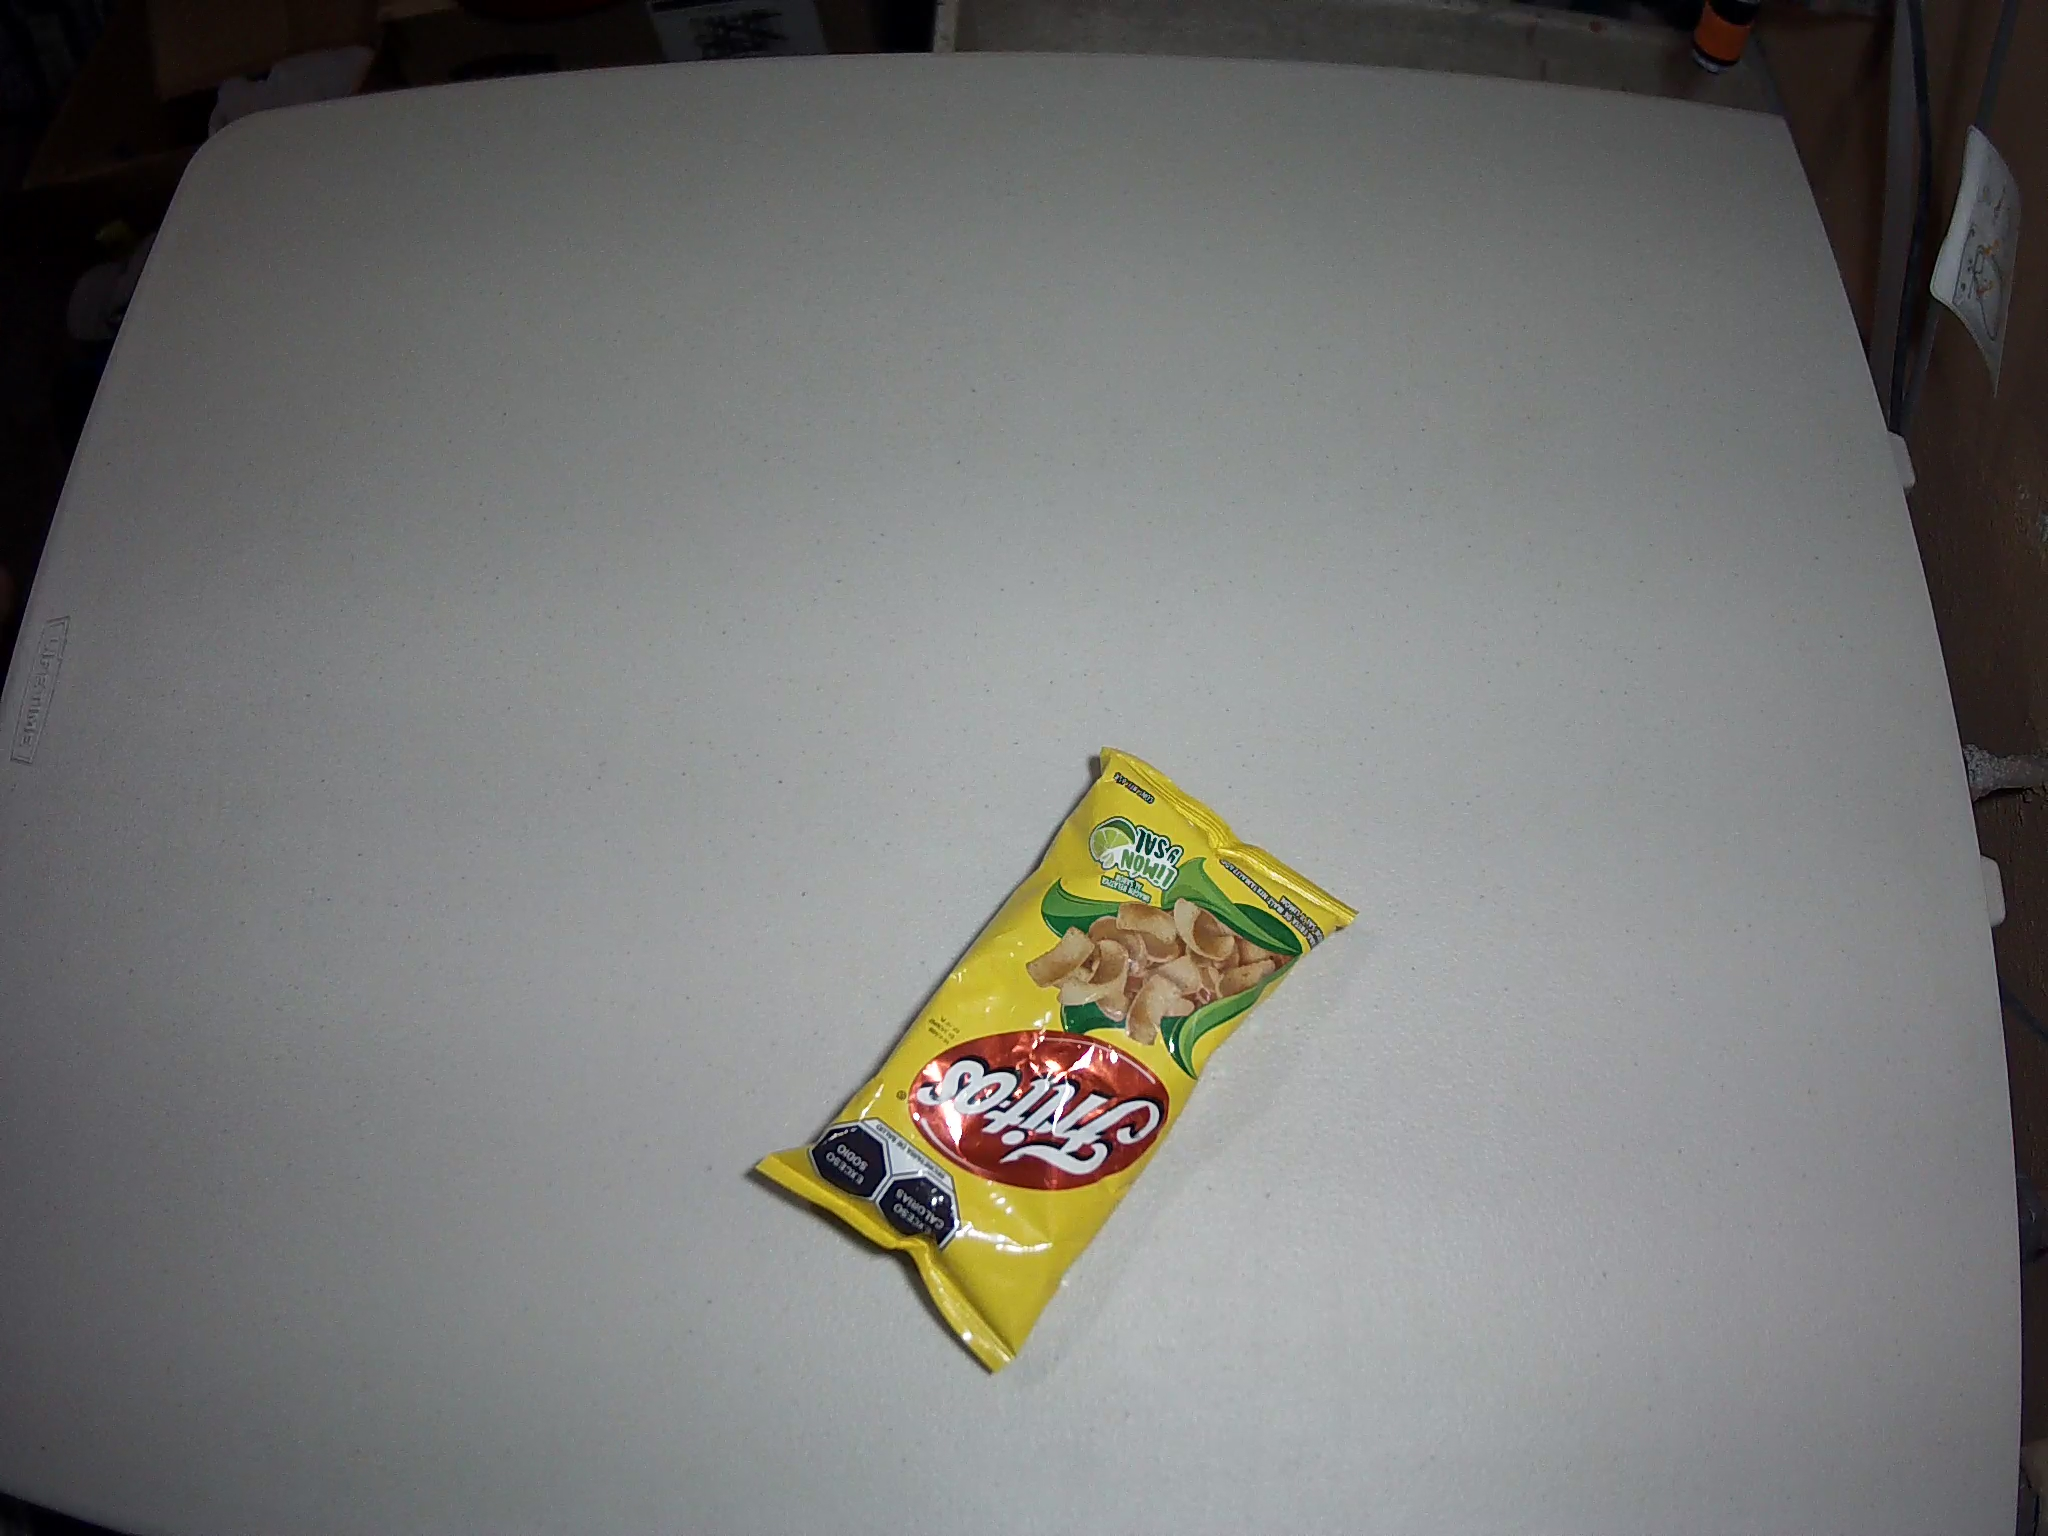FritosSalLimon_65_F: (753, 745, 1361, 1378)
